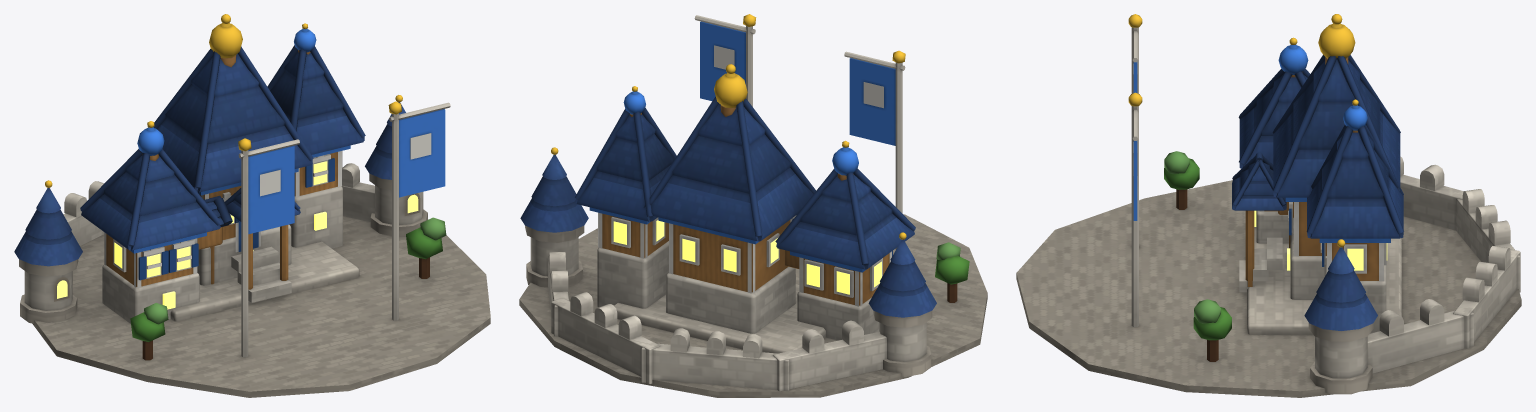
The model's file is residence_dl3_blue.glb.
3 views of the same model, side by side, from view 1: azimuth 30°, elevation 25°; view 2: azimuth 150°, elevation 25°; view 3: azimuth 270°, elevation 25° (orthographic). The views are drawn at different scales.
Parts seen in each view (by area): view 1: residence_dl3_blue; view 2: residence_dl3_blue; view 3: residence_dl3_blue.
Part boxes in pixels (bbox=[...]): residence_dl3_blue: bbox=[14, 14, 490, 397]; residence_dl3_blue: bbox=[519, 14, 987, 397]; residence_dl3_blue: bbox=[1016, 14, 1521, 397].
Bounding box in the file's own units: 1.66 × 0.9928 × 1.63.
2 materials, 1 textured.
